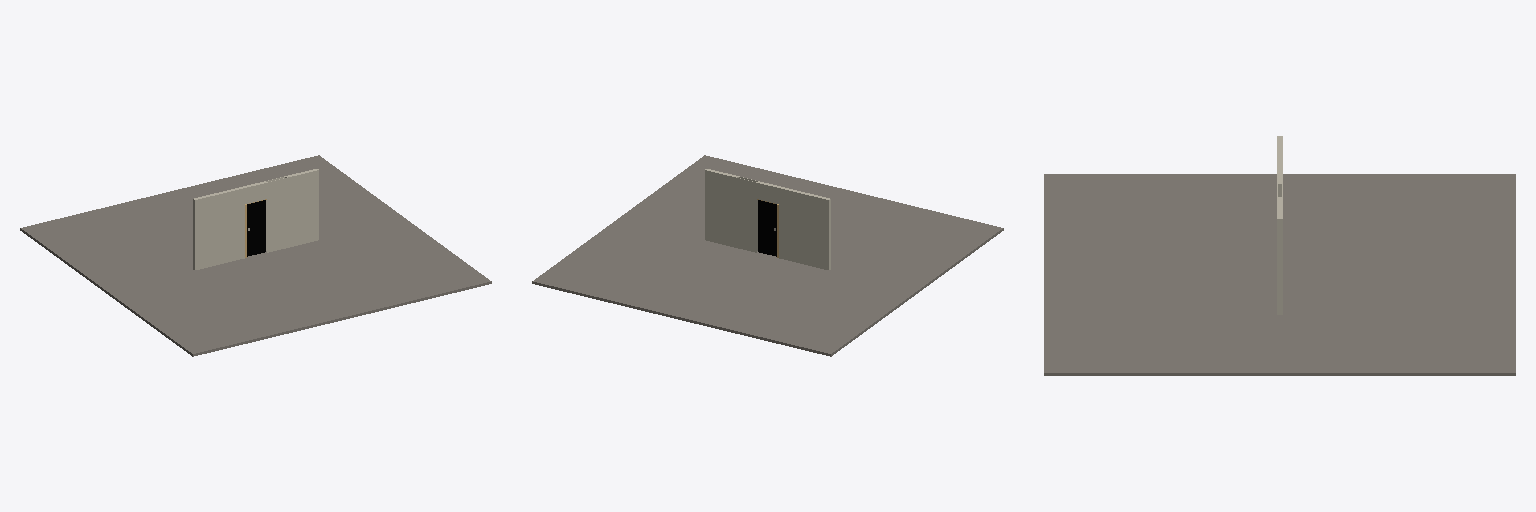
The robot description file, URDF, robot "db0555_sliding_single_full":
<?xml version="1.0" ?>
<robot xmlns:doorbench="https://github.com/adamraudonis/DoorBench/schema/urdf-ext" name="db0555_sliding_single_full">
  <link name="world_env">
    <visual name="floor_vis">
      <origin xyz="0 0 -0.05" rpy="0 0 0"/>
      <geometry>
        <box size="12 12 0.1"/>
      </geometry>
      <material name="mat_floor"/>
    </visual>
    <collision name="floor_col">
      <origin xyz="0 0 -0.05" rpy="0 0 0"/>
      <geometry>
        <box size="12 12 0.1"/>
      </geometry>
    </collision>
    <visual name="wall_left_vis">
      <origin xyz="-1.485 0 1.35" rpy="0 0 0"/>
      <geometry>
        <box size="2.03 0.145 2.7"/>
      </geometry>
      <material name="mat_wall"/>
    </visual>
    <collision name="wall_left_col">
      <origin xyz="-1.485 0 1.35" rpy="0 0 0"/>
      <geometry>
        <box size="2.03 0.145 2.7"/>
      </geometry>
    </collision>
    <visual name="wall_header_vis">
      <origin xyz="-0.03 0 2.3855" rpy="0 0 0"/>
      <geometry>
        <box size="0.88 0.145 0.629"/>
      </geometry>
      <material name="mat_wall"/>
    </visual>
    <collision name="wall_header_col">
      <origin xyz="-0.03 0 2.3855" rpy="0 0 0"/>
      <geometry>
        <box size="0.88 0.145 0.629"/>
      </geometry>
    </collision>
    <visual name="pocket_skin_n_vis">
      <origin xyz="0.797 -0.0645 1.35" rpy="0 0 0"/>
      <geometry>
        <box size="0.812 0.016 2.7"/>
      </geometry>
      <material name="mat_wall"/>
    </visual>
    <collision name="pocket_skin_n_col">
      <origin xyz="0.797 -0.0645 1.35" rpy="0 0 0"/>
      <geometry>
        <box size="0.812 0.016 2.7"/>
      </geometry>
    </collision>
    <visual name="pocket_skin_p_vis">
      <origin xyz="0.797 0.0645 1.35" rpy="0 0 0"/>
      <geometry>
        <box size="0.812 0.016 2.7"/>
      </geometry>
      <material name="mat_wall"/>
    </visual>
    <collision name="pocket_skin_p_col">
      <origin xyz="0.797 0.0645 1.35" rpy="0 0 0"/>
      <geometry>
        <box size="0.812 0.016 2.7"/>
      </geometry>
    </collision>
    <visual name="wall_pocket_far_vis">
      <origin xyz="1.8515 0 1.35" rpy="0 0 0"/>
      <geometry>
        <box size="1.297 0.145 2.7"/>
      </geometry>
      <material name="mat_wall"/>
    </visual>
    <collision name="wall_pocket_far_col">
      <origin xyz="1.8515 0 1.35" rpy="0 0 0"/>
      <geometry>
        <box size="1.297 0.145 2.7"/>
      </geometry>
    </collision>
    <visual name="jamb_head_vis">
      <origin xyz="0 0 2.0615" rpy="0 0 0"/>
      <geometry>
        <box size="0.82 0.145 0.019"/>
      </geometry>
      <material name="mat_frame"/>
    </visual>
    <collision name="jamb_head_col">
      <origin xyz="0 0 2.0615" rpy="0 0 0"/>
      <geometry>
        <box size="0.82 0.145 0.019"/>
      </geometry>
    </collision>
    <visual name="track_header_vis">
      <origin xyz="0.362 0 2.111" rpy="0 0 0"/>
      <geometry>
        <box size="1.586 0.05 0.08"/>
      </geometry>
      <material name="mat_track"/>
    </visual>
    <collision name="track_header_col">
      <origin xyz="0.362 0 2.111" rpy="0 0 0"/>
      <geometry>
        <box size="1.586 0.05 0.08"/>
      </geometry>
    </collision>
    <visual name="jamb_latch_0_vis">
      <origin xyz="-0.4305 0 1.026" rpy="0 0 0"/>
      <geometry>
        <box size="0.079 0.145 2.052"/>
      </geometry>
      <material name="mat_frame"/>
    </visual>
    <collision name="jamb_latch_0_col">
      <origin xyz="-0.4305 0 1.026" rpy="0 0 0"/>
      <geometry>
        <box size="0.079 0.145 2.052"/>
      </geometry>
    </collision>
    <visual name="track_header_bracket_vis">
      <origin xyz="0.362 0.04075 2.111" rpy="0 0 0"/>
      <geometry>
        <box size="1.2688 0.0325 0.064"/>
      </geometry>
      <material name="mat_hook"/>
    </visual>
  </link>
  <link name="leaf">
    <inertial>
      <origin xyz="-0.000081 0 1.028006" rpy="0 0 0"/>
      <mass value="35.921219"/>
      <inertia ixx="12.360187854" ixy="0" ixz="0.000064342" iyy="14.095005408" iyz="0" izz="1.742155934"/>
    </inertial>
    <visual name="leaf_slab_vis">
      <origin xyz="0 0 1.028" rpy="0 0 0"/>
      <geometry>
        <box size="0.762 0.035 2.032"/>
      </geometry>
      <material name="mat_leaf"/>
    </visual>
    <collision name="leaf_slab_col">
      <origin xyz="0 0 1.028" rpy="0 0 0"/>
      <geometry>
        <box size="0.762 0.035 2.032"/>
      </geometry>
    </collision>
    <visual name="leaf_pull_n_vis">
      <origin xyz="-0.291 -0.018 1.05" rpy="0 0 0"/>
      <geometry>
        <box size="0.05 0.001 0.1"/>
      </geometry>
      <material name="mat_op_nickel_satin"/>
    </visual>
    <visual name="leaf_pull_p_vis">
      <origin xyz="-0.291 0.018 1.05" rpy="0 0 0"/>
      <geometry>
        <box size="0.05 0.001 0.1"/>
      </geometry>
      <material name="mat_op_nickel_satin"/>
    </visual>
  </link>
  <joint name="leaf_slide" type="prismatic">
    <origin xyz="0 0 0" rpy="0 0 0"/>
    <parent link="world_env"/>
    <child link="leaf"/>
    <axis xyz="1 0 0"/>
    <limit lower="0" upper="0.724" effort="5000" velocity="10"/>
    <dynamics damping="3.796061" friction="84.544037"/>
  </joint>
  <material name="mat_floor">
    <color rgba="0.55 0.53 0.5 1"/>
  </material>
  <material name="mat_frame">
    <color rgba="0.82 0.7 0.5 1"/>
  </material>
  <material name="mat_hook">
    <color rgba="0.75 0.76 0.77 1"/>
  </material>
  <material name="mat_leaf">
    <color rgba="0.04 0.04 0.04 1"/>
  </material>
  <material name="mat_op_nickel_satin">
    <color rgba="0.72 0.7 0.66 1"/>
  </material>
  <material name="mat_track">
    <color rgba="0.8 0.81 0.83 1"/>
  </material>
  <material name="mat_wall">
    <color rgba="0.78 0.76 0.7 1"/>
  </material>
</robot>

--- Facts derived from the render (not from the file) ---
Views: 3 orthographic renders of the robot side by side, from view 1: azimuth 30°, elevation 25°; view 2: azimuth 150°, elevation 25°; view 3: azimuth 270°, elevation 25°.
Model db0555_sliding_single_full with 2 links and 1 joints (1 prismatic), rooted at world_env, posed every joint at zero.
Links seen in each view (by area): view 1: world_env, leaf; view 2: world_env, leaf; view 3: world_env.
Link boxes in pixels (left/top/right/bottom): world_env: left=20, top=155, right=491, bottom=356; leaf: left=247, top=200, right=265, bottom=256; world_env: left=532, top=155, right=1003, bottom=356; leaf: left=758, top=200, right=776, bottom=256; world_env: left=1044, top=136, right=1515, bottom=375.
Bounding box of the posed robot: 12 × 12 × 2.8 m (x, y, z).
Geometry: primitives only (box / cylinder / sphere), no mesh files.
